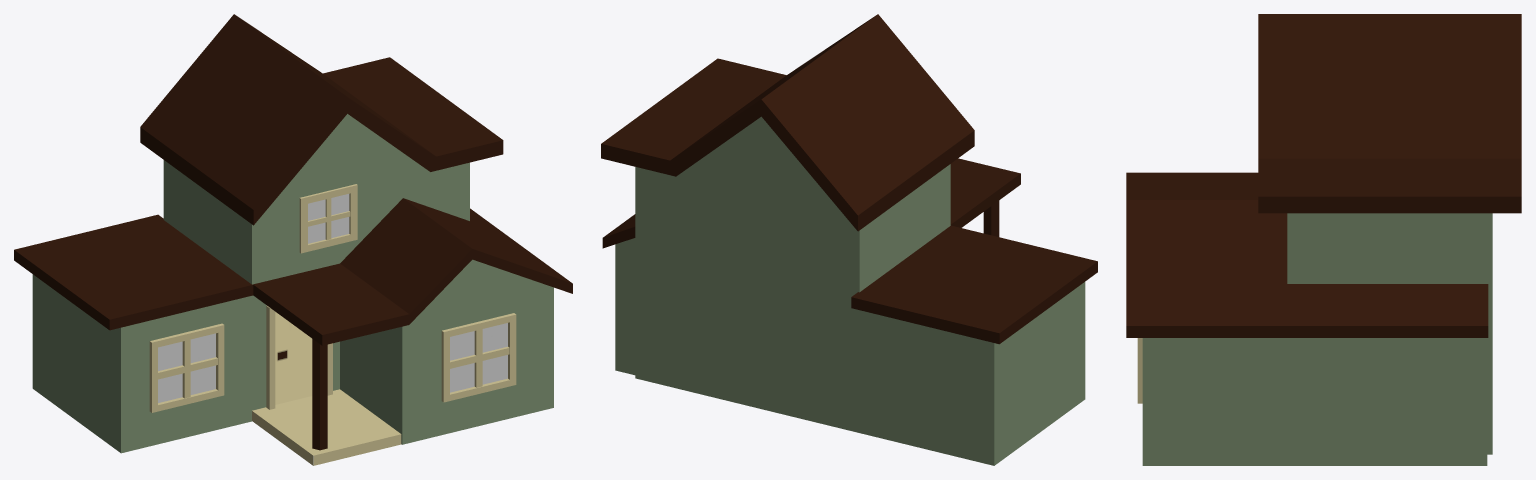
File: compacta.glb
The picture shows the model from 3 angles, left to right: view 1: azimuth 30°, elevation 25°; view 2: azimuth 150°, elevation 25°; view 3: azimuth 270°, elevation 25°; orthographic projection. The views are drawn at different scales.
Visible parts, largest first — view 1: compacta; view 2: compacta; view 3: compacta.
Part boxes in pixels (x1,y1,x2,y2): compacta: [14, 14, 572, 465]; compacta: [601, 14, 1097, 465]; compacta: [1126, 14, 1521, 465].
Bounding box in the file's own units: 18.65 × 14.16 × 13.94.
Materials: 1 (1 with a texture image).
